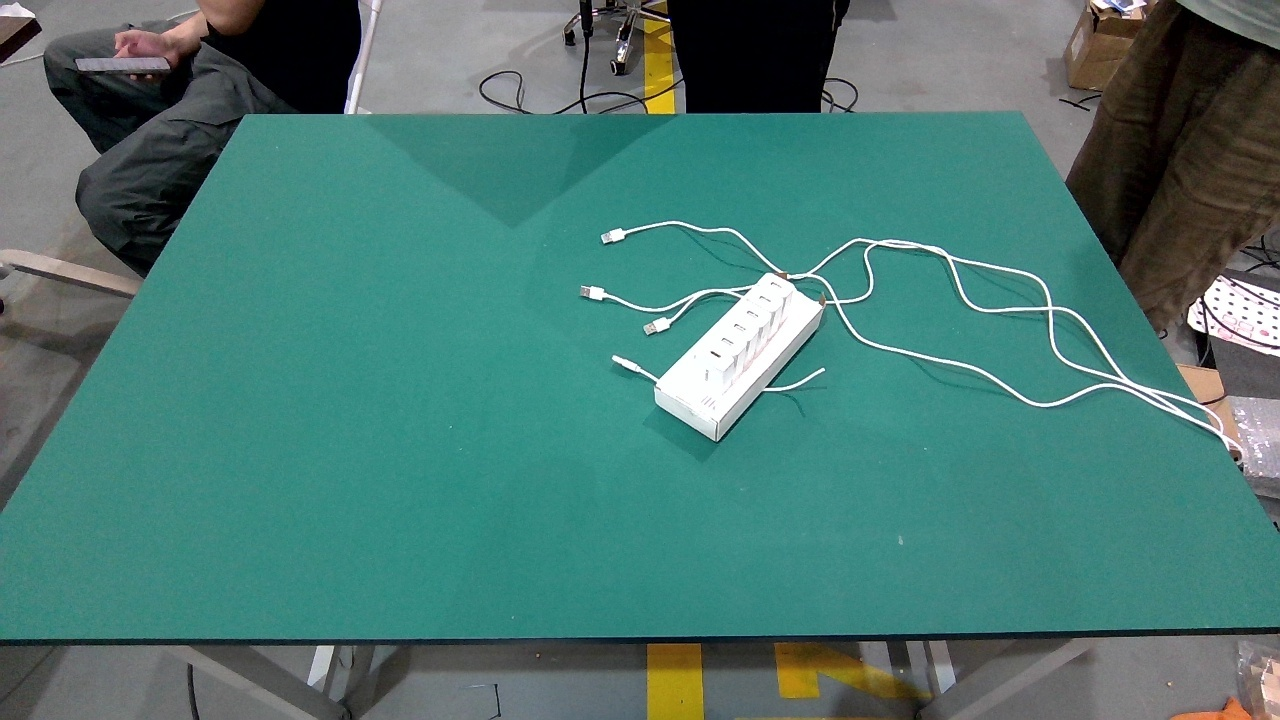usb_a_port: (770, 281, 783, 290), (732, 323, 746, 331), (710, 350, 722, 359), (758, 296, 772, 303), (721, 338, 734, 345), (747, 310, 758, 318)
